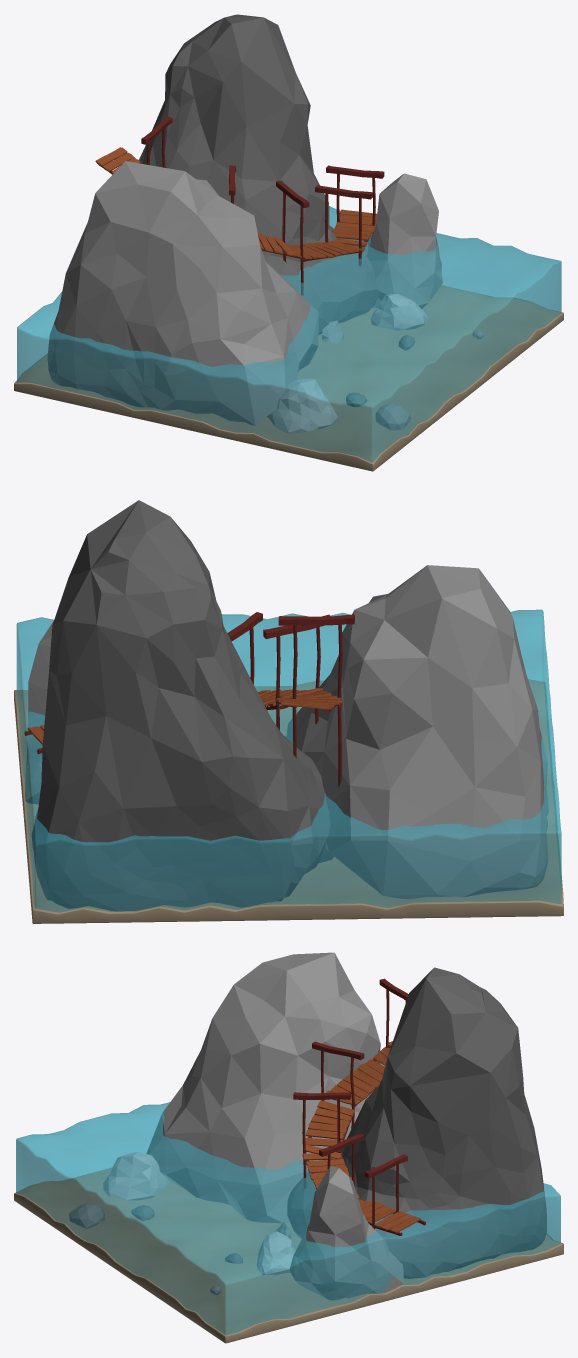
File: LowPolyTokyo.gltf
3 views of the same model, one above another, from view 1: azimuth 30°, elevation 25°; view 2: azimuth 150°, elevation 25°; view 3: azimuth 270°, elevation 25° (orthographic). The views are drawn at different scales.
Parts seen in each view (by area): view 1: water_7, mountain1.001_4, mountain1_3, sand_6, mountain1.002_5, extra rocks_2, bridgee_1, boards_0; view 2: mountain1_3, mountain1.001_4, water_7, sand_6, bridgee_1, mountain1.002_5, boards_0; view 3: water_7, mountain1_3, mountain1.001_4, sand_6, mountain1.002_5, extra rocks_2, boards_0, bridgee_1.
Boxes of the visible parts, left/top/right/bottom form: water_7: left=16, top=206, right=561, bottom=462; mountain1.001_4: left=47, top=161, right=318, bottom=425; mountain1_3: left=139, top=14, right=378, bottom=334; sand_6: left=14, top=285, right=563, bottom=471; mountain1.002_5: left=367, top=173, right=442, bottom=308; extra rocks_2: left=267, top=294, right=483, bottom=433; bridgee_1: left=98, top=116, right=384, bottom=295; boards_0: left=95, top=147, right=377, bottom=258; mountain1_3: left=31, top=500, right=333, bottom=911; mountain1.001_4: left=286, top=565, right=548, bottom=899; water_7: left=16, top=609, right=561, bottom=912; sand_6: left=14, top=679, right=563, bottom=923; bridgee_1: left=24, top=612, right=354, bottom=786; mountain1.002_5: left=25, top=620, right=53, bottom=804; boards_0: left=27, top=688, right=342, bottom=744; water_7: left=16, top=1102, right=560, bottom=1335; mountain1_3: left=287, top=967, right=547, bottom=1278; mountain1.001_4: left=146, top=952, right=385, bottom=1223; sand_6: left=14, top=1167, right=563, bottom=1343; mountain1.002_5: left=289, top=1165, right=403, bottom=1300; extra rocks_2: left=69, top=1152, right=295, bottom=1294; boards_0: left=303, top=1041, right=420, bottom=1233; bridgee_1: left=293, top=978, right=425, bottom=1235.
Bounding box in the file's own units: 37.82 × 22.13 × 37.82.
7 materials, 2 textured.
